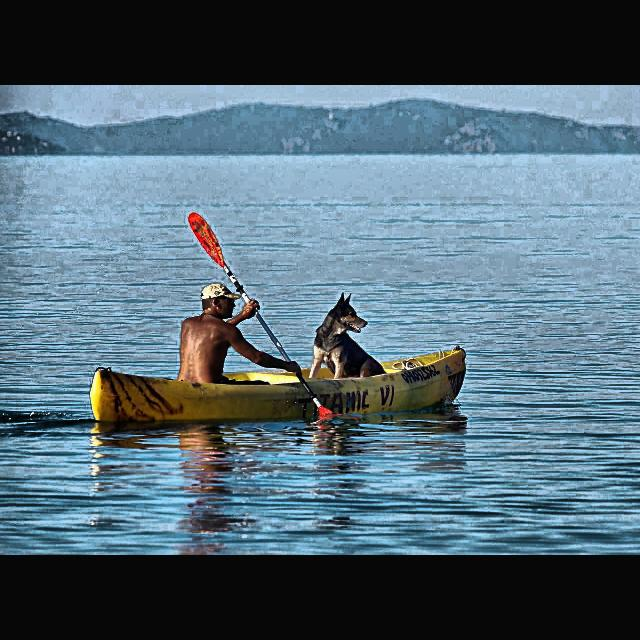kayak: (89, 345, 468, 425)
